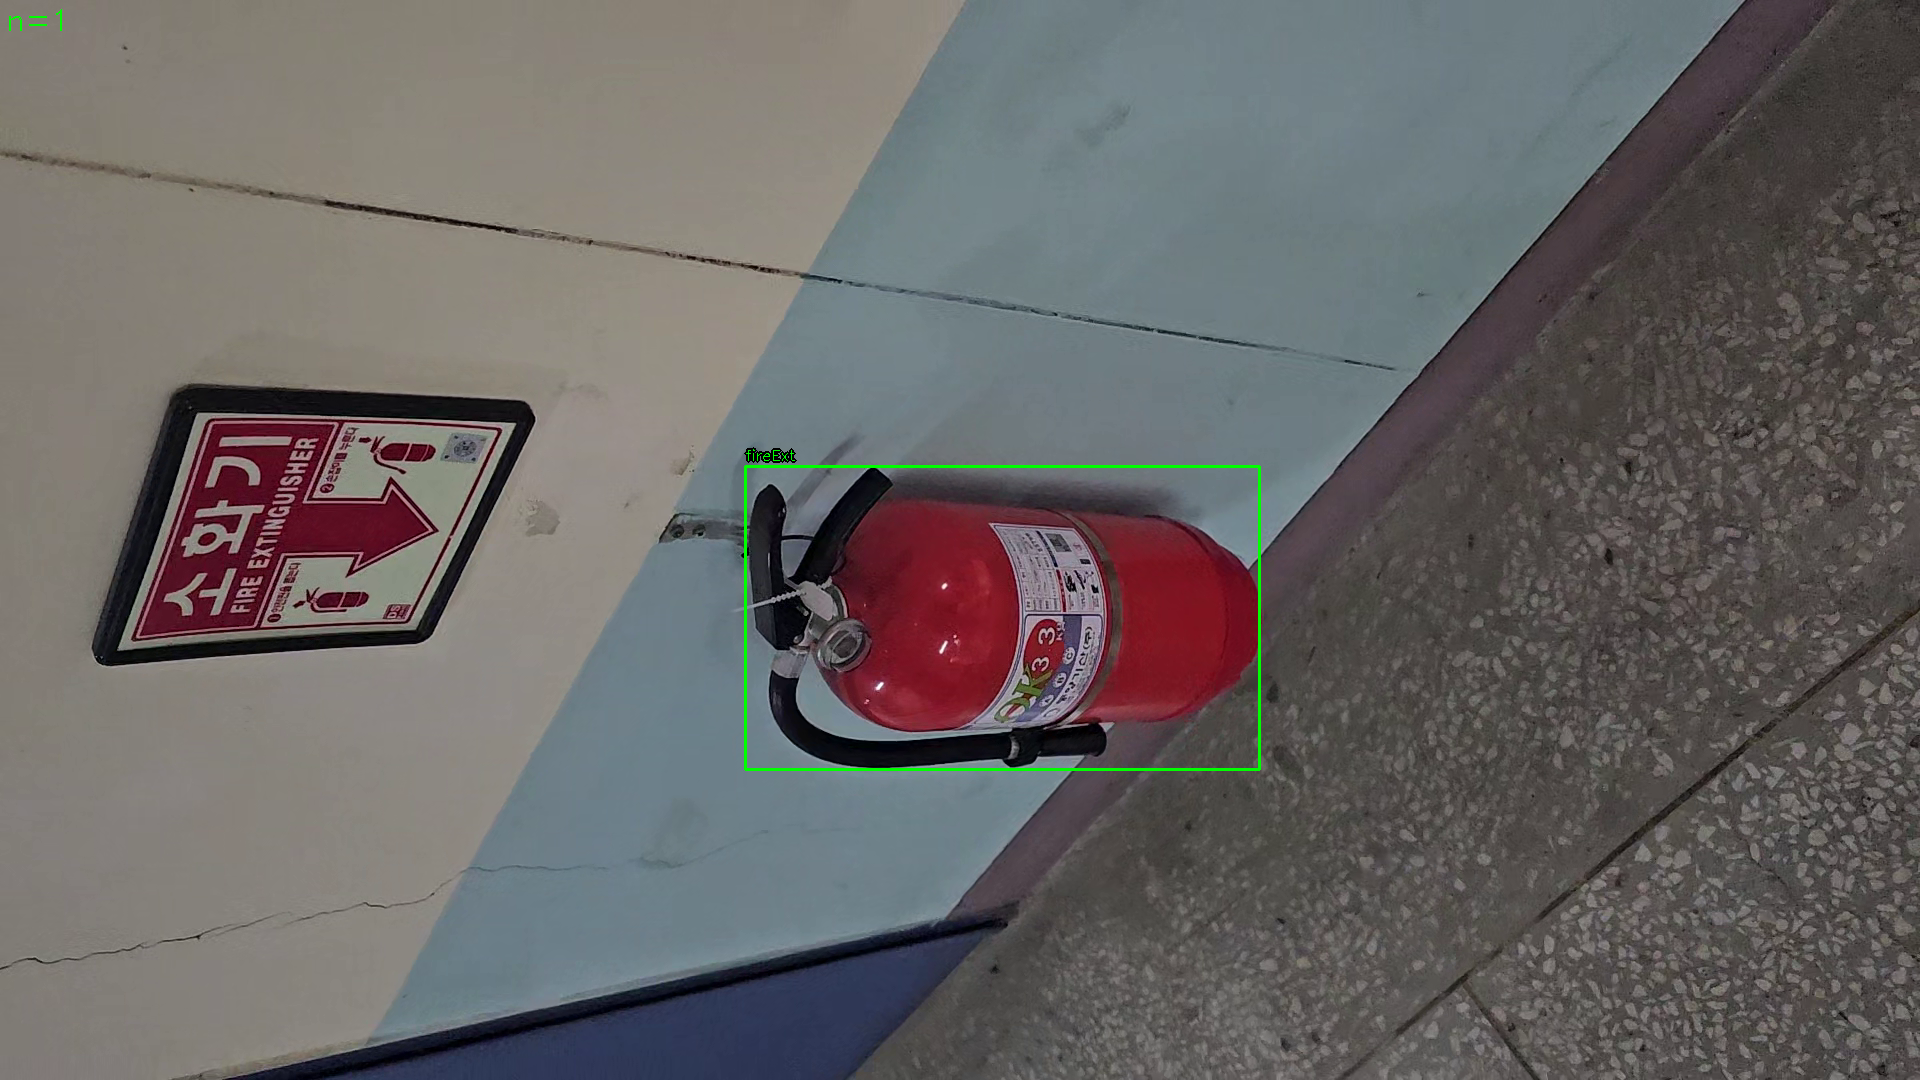lane: (745, 465, 1259, 770)
